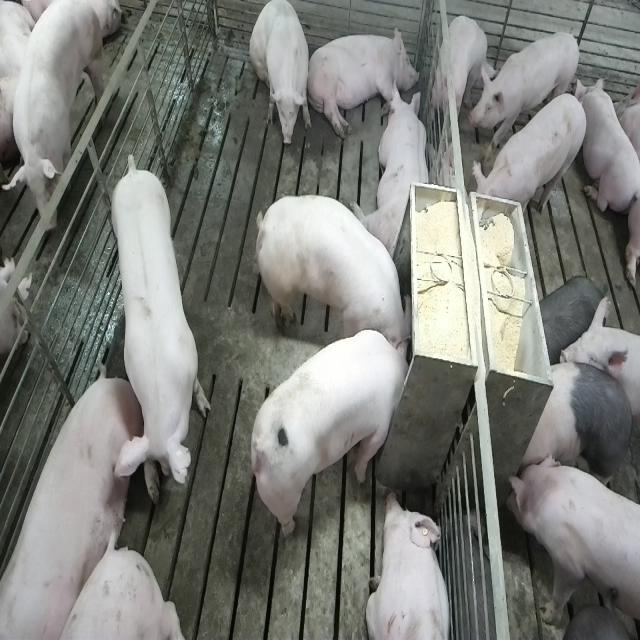Feeding: (254, 328, 419, 541), (250, 191, 410, 357)
Lateral_lying: (306, 22, 420, 141)
Sitting: (250, 0, 311, 148)
Standing: (108, 150, 211, 510), (0, 0, 114, 234), (504, 450, 638, 640), (515, 358, 637, 507), (472, 90, 589, 227), (470, 28, 582, 158), (431, 12, 488, 136)
Sternal_lying: (368, 490, 454, 640), (359, 80, 432, 254), (577, 73, 637, 216)
